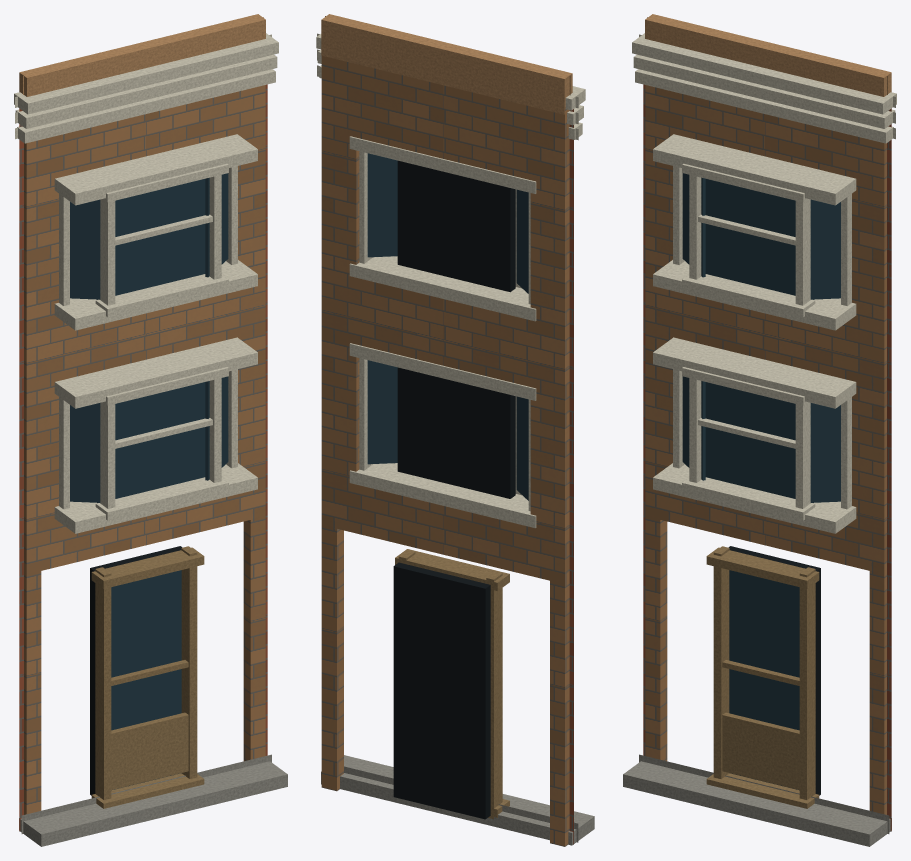
Rendered from RUNDWN14_lod2.glb.
3 views of the same model, side by side, from view 1: azimuth 30°, elevation 25°; view 2: azimuth 150°, elevation 25°; view 3: azimuth 330°, elevation 25° (orthographic).
Parts seen in each view (by area): view 1: RUNDWN14_FRONT_LOD2; view 2: RUNDWN14_FRONT_LOD2; view 3: RUNDWN14_FRONT_LOD2.
Part boxes in pixels (left/top/right/bottom): RUNDWN14_FRONT_LOD2: left=14, top=14, right=287, bottom=846; RUNDWN14_FRONT_LOD2: left=316, top=14, right=594, bottom=846; RUNDWN14_FRONT_LOD2: left=623, top=14, right=896, bottom=846.
Bounding box in the file's own units: 3.44 × 9.66 × 0.765.
9 materials, 7 textured.
